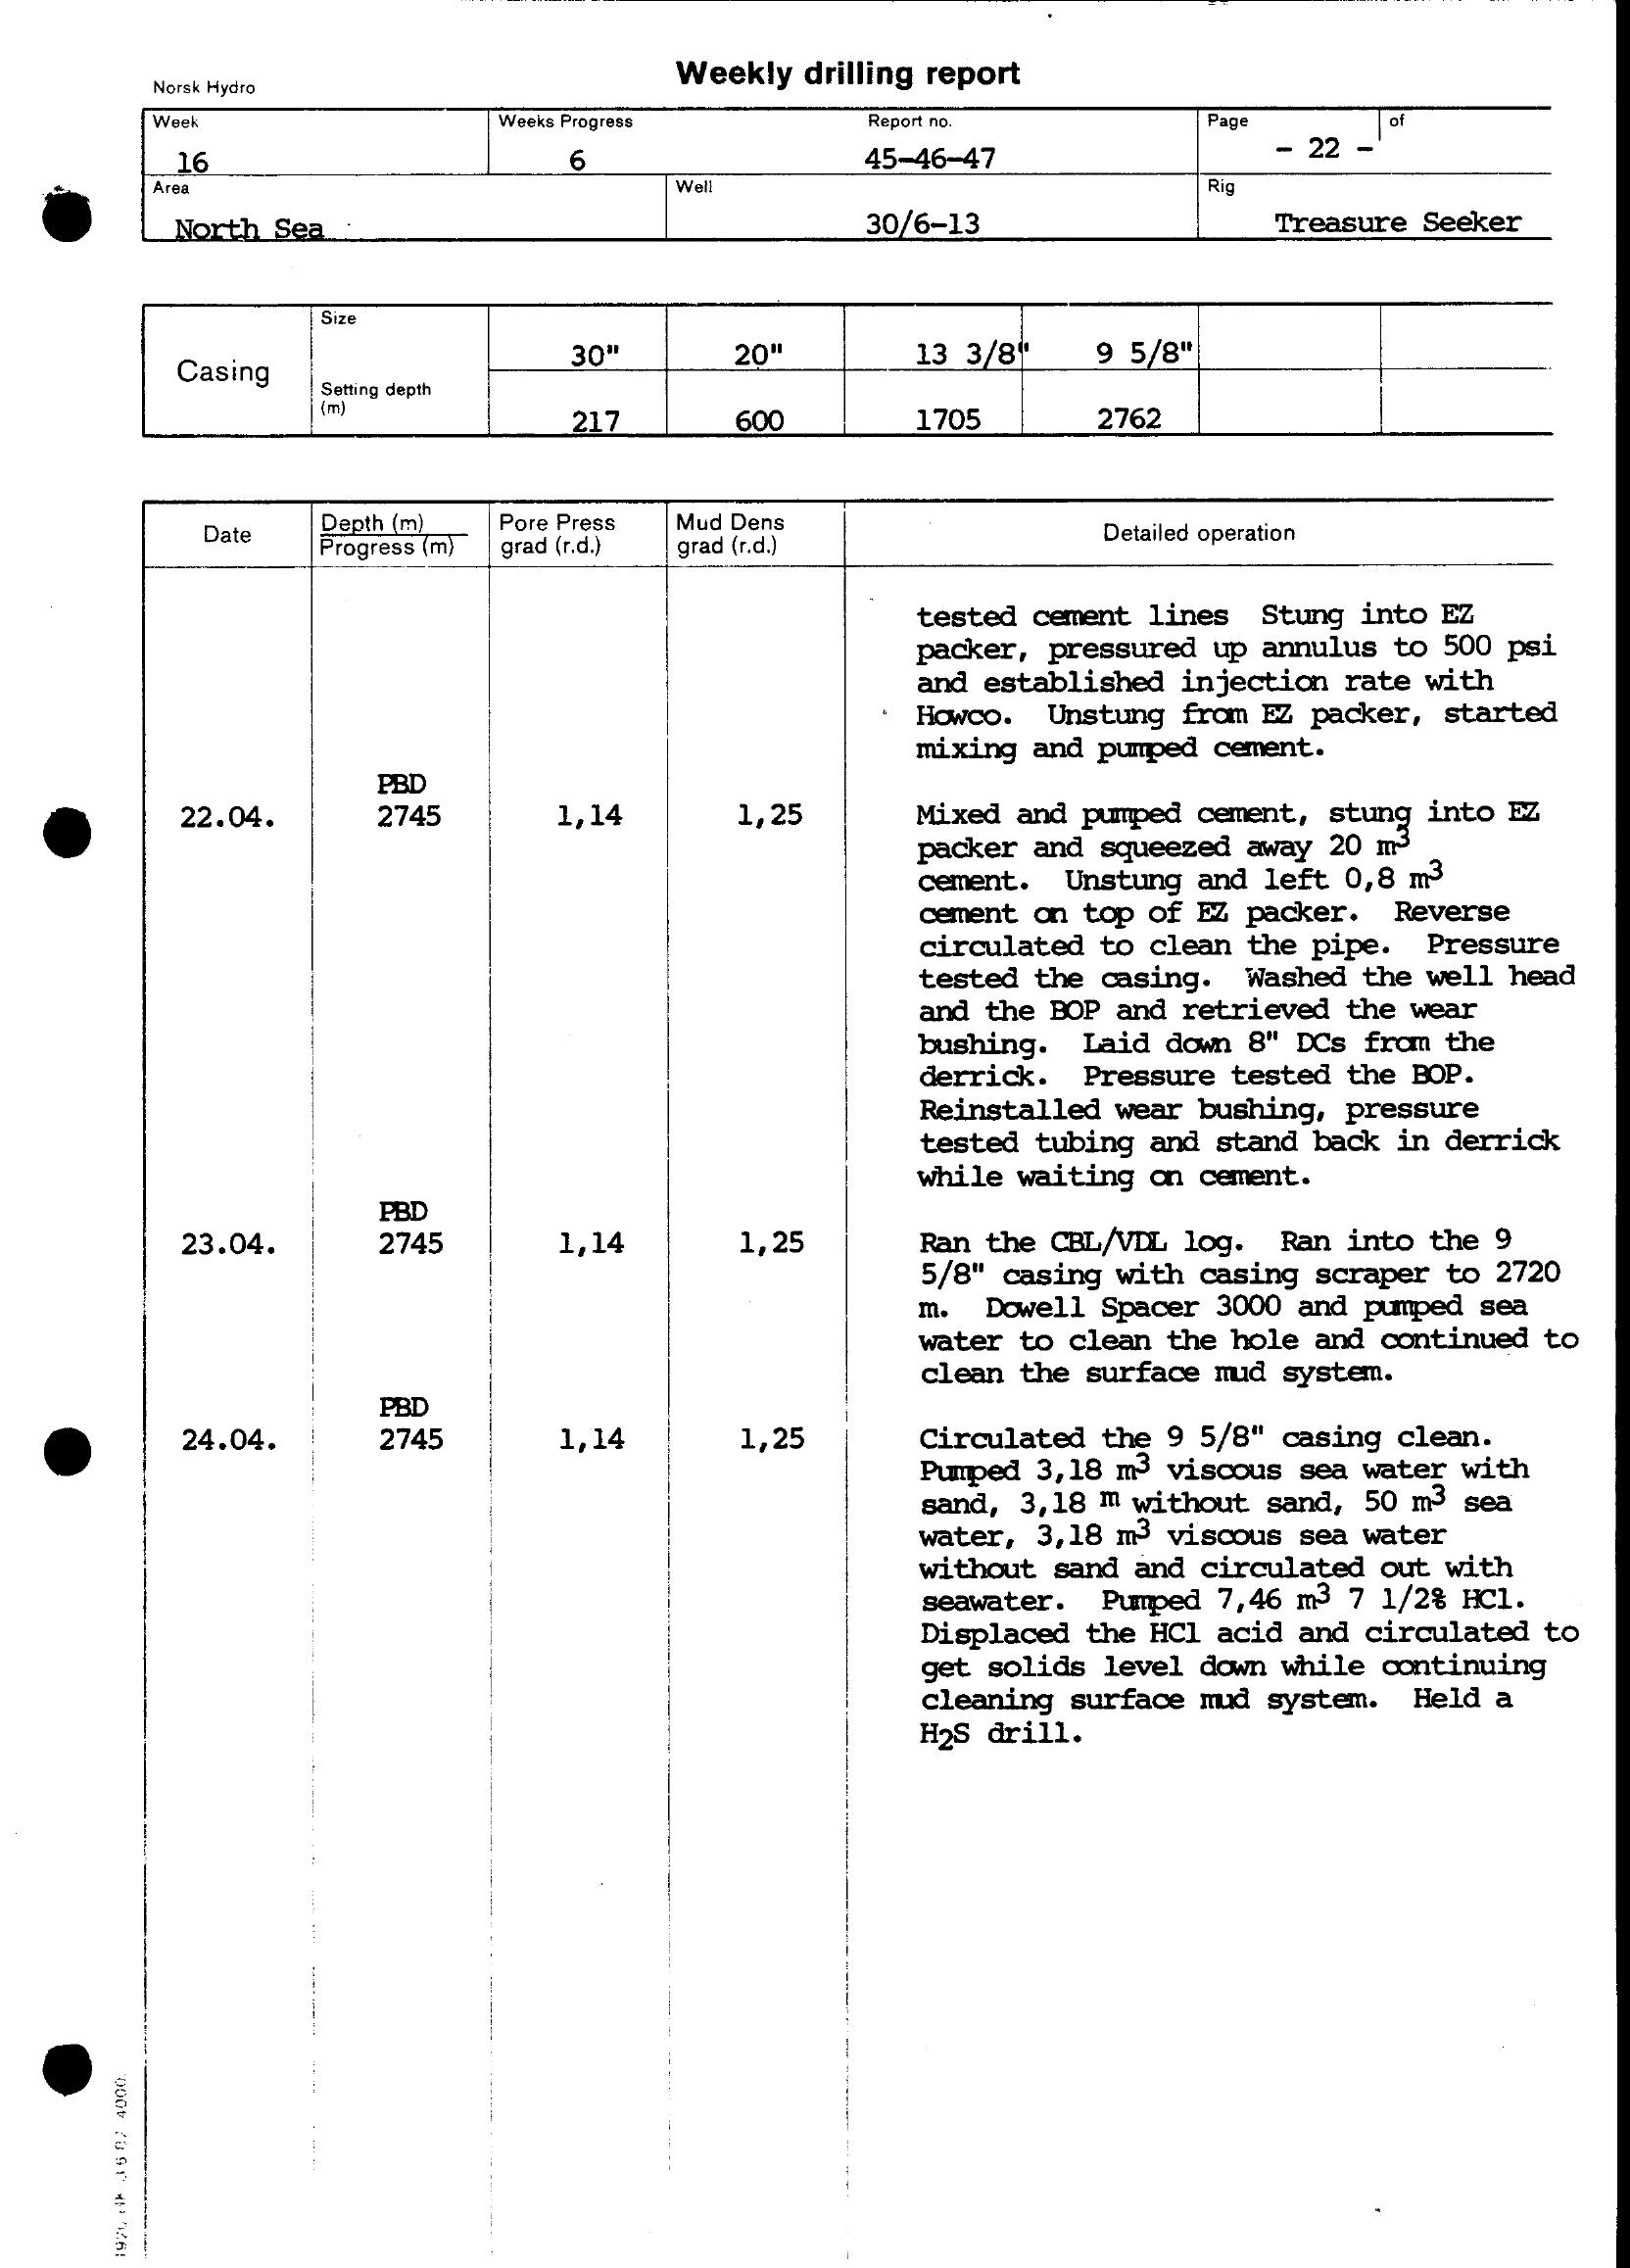graph: (134, 99, 1630, 1775)
text: (662, 21, 1044, 95)
